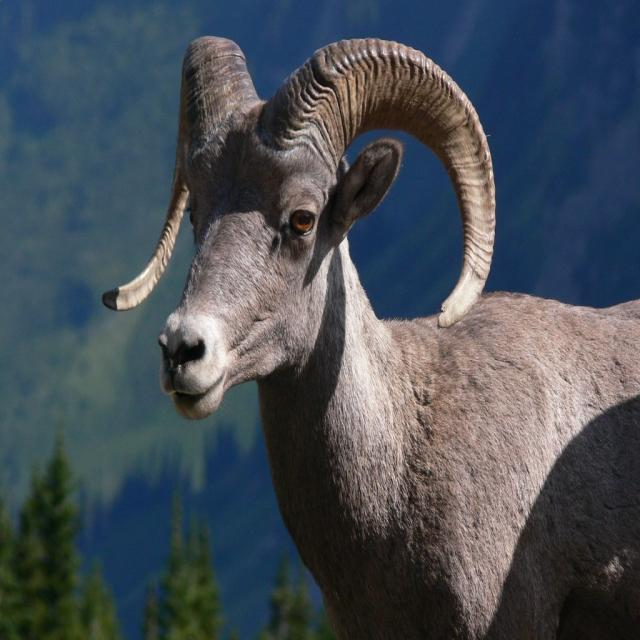Goat: (101, 34, 640, 638)
